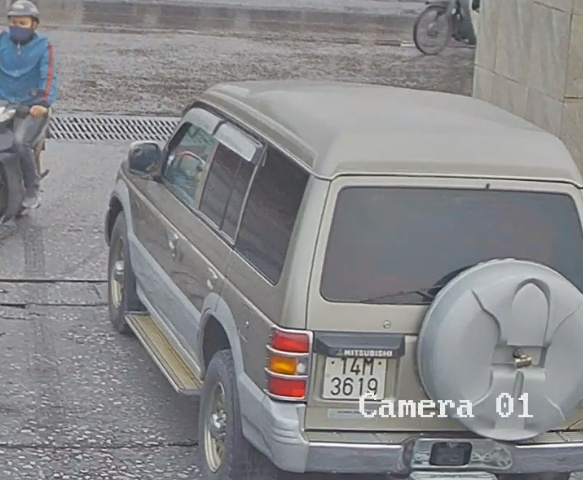vehicle plate: (325, 353, 385, 404)
